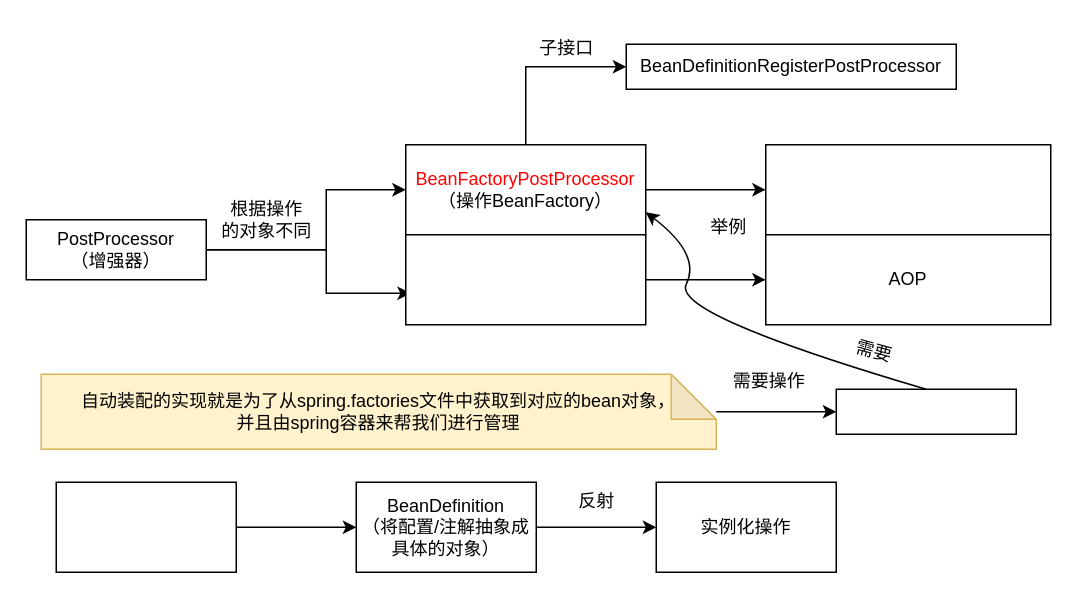
Image size: 1077x599. Some labels were removed from this diagram. The centre of each missing label's shape, as x and y in pixels:
BeanFactory: the point at 925,411
BeanPostProcessor （操作Bean对象）: the point at 525,279
ConfigurationClassPostProcessor: the point at 907,189
配置注解: the point at 145,526
